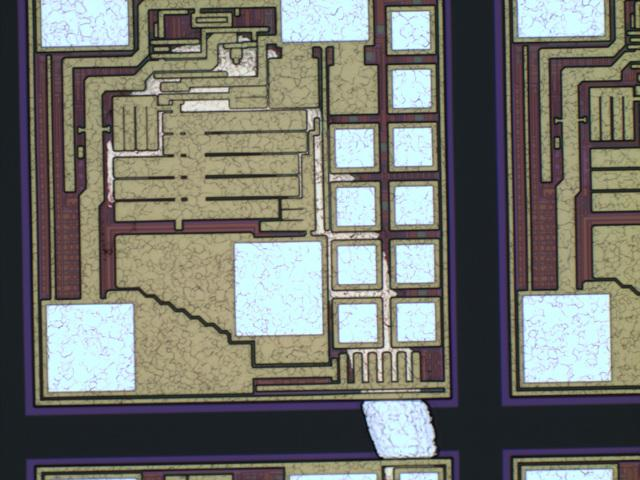BLOCK ETCH: (91, 33, 440, 477)
